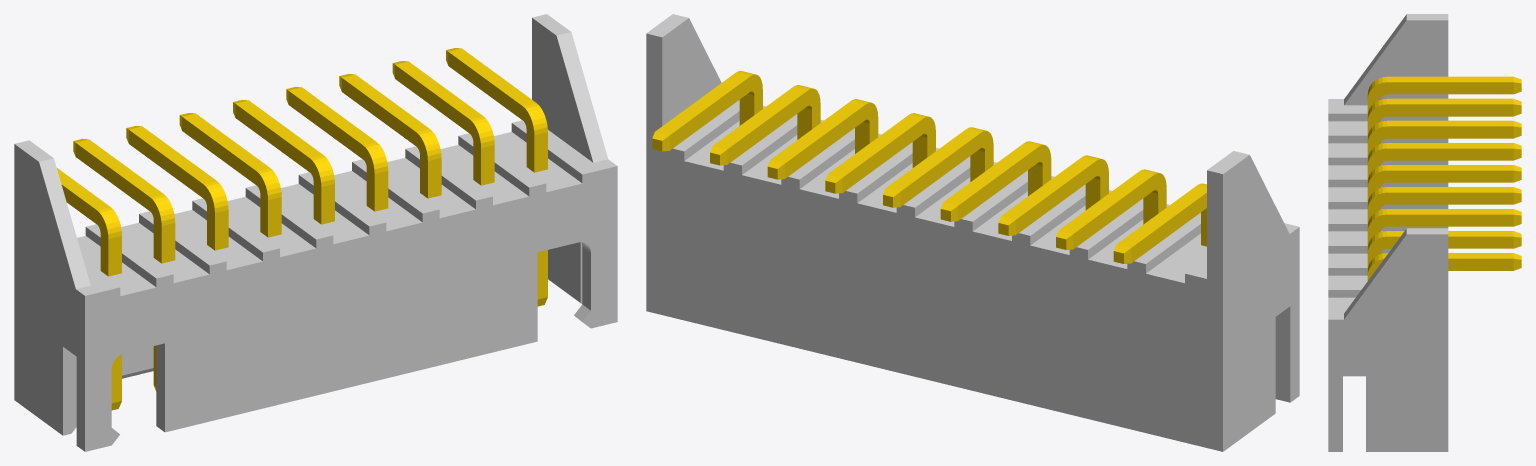
Rendered from DS1069-9 CWF-9R.obj.
The picture shows the model from 3 angles, left to right: view 1: azimuth 30°, elevation 25°; view 2: azimuth 150°, elevation 25°; view 3: azimuth 270°, elevation 25°; orthographic projection. The views are drawn at different scales.
Visible parts, largest first — view 1: DS1069-9_CWF-9R; view 2: DS1069-9_CWF-9R; view 3: DS1069-9_CWF-9R.
Boxes of the visible parts, <box> form: DS1069-9_CWF-9R: <box>14,14,617,451</box>; DS1069-9_CWF-9R: <box>646,14,1299,451</box>; DS1069-9_CWF-9R: <box>1328,14,1521,451</box>.
Size of the model in its own units: 0.0225 by 0.0103 by 0.00832.
